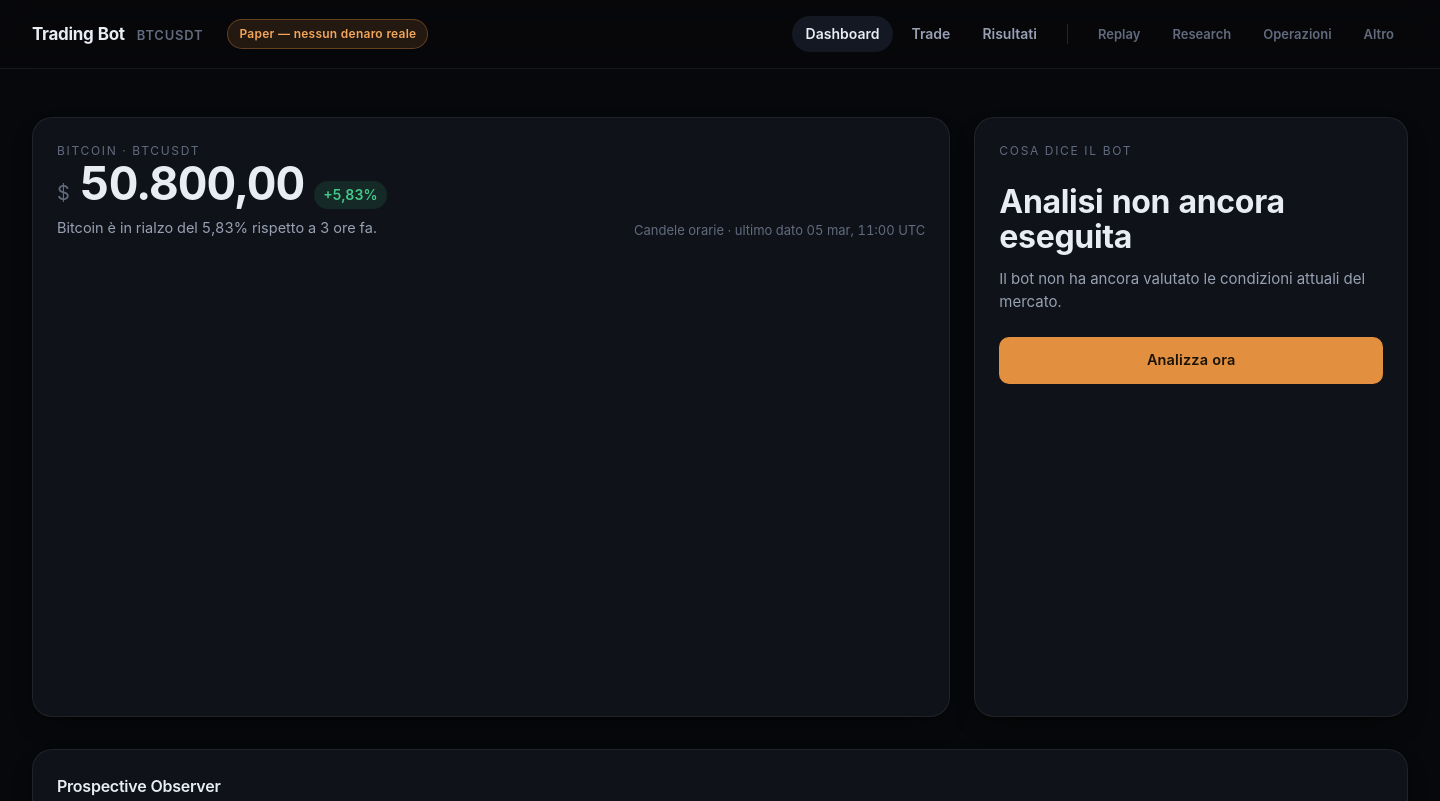
Test: analisi › mostra lo stato NESSUN TRADE in parole semplici
Expected: the text "Analisi non ancora eseguita" is shown, [999, 182, 1285, 256]
Click the button "Analizza ora". click: (1191, 360)
box: [999, 337, 1383, 384]
(page scrolled)
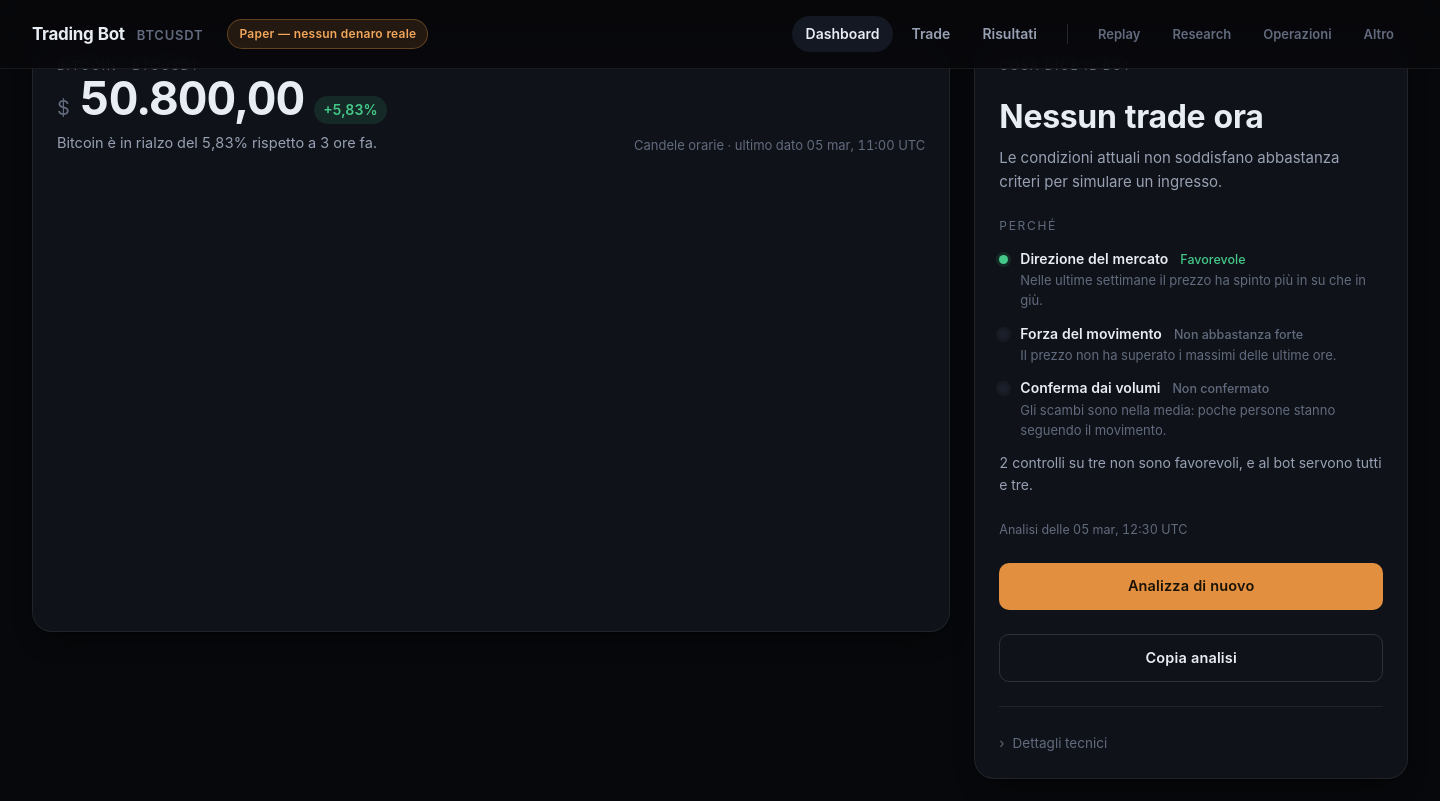
Expected: the element named "Decisione del bot" does not show "breakout", [974, 32, 1408, 779]
Result: the text "Nessun trade ora" is shown at [999, 97, 1263, 136]
Result: the element named "Decisione del bot" shows "Le condizioni attuali non soddisfano abbastanza criteri" at [999, 148, 1340, 191]
